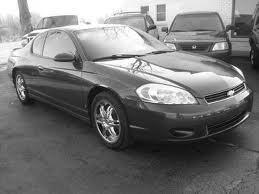car: (8, 20, 254, 155)
